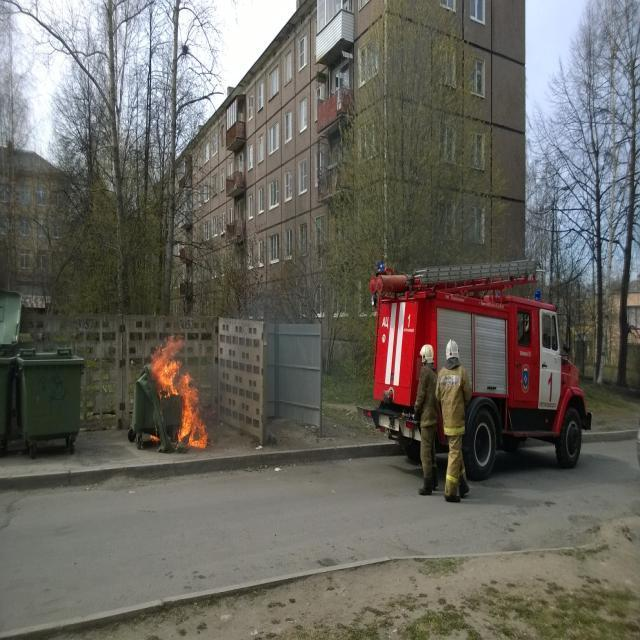Fire: (149, 336, 196, 394), (177, 395, 208, 448), (148, 434, 158, 442)
Smoke: (197, 335, 220, 394)
